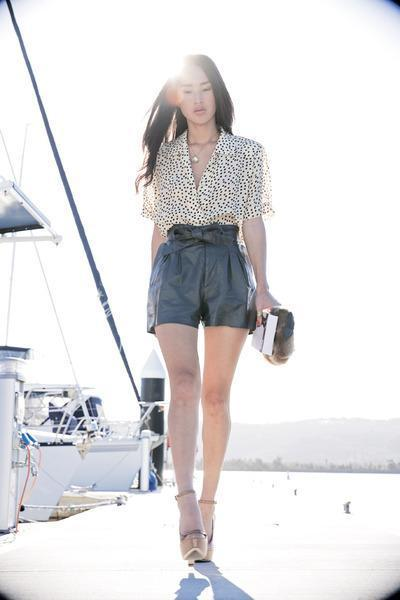bag: (237, 300, 294, 363)
shirt: (143, 132, 275, 232)
shoe: (180, 534, 212, 563)
